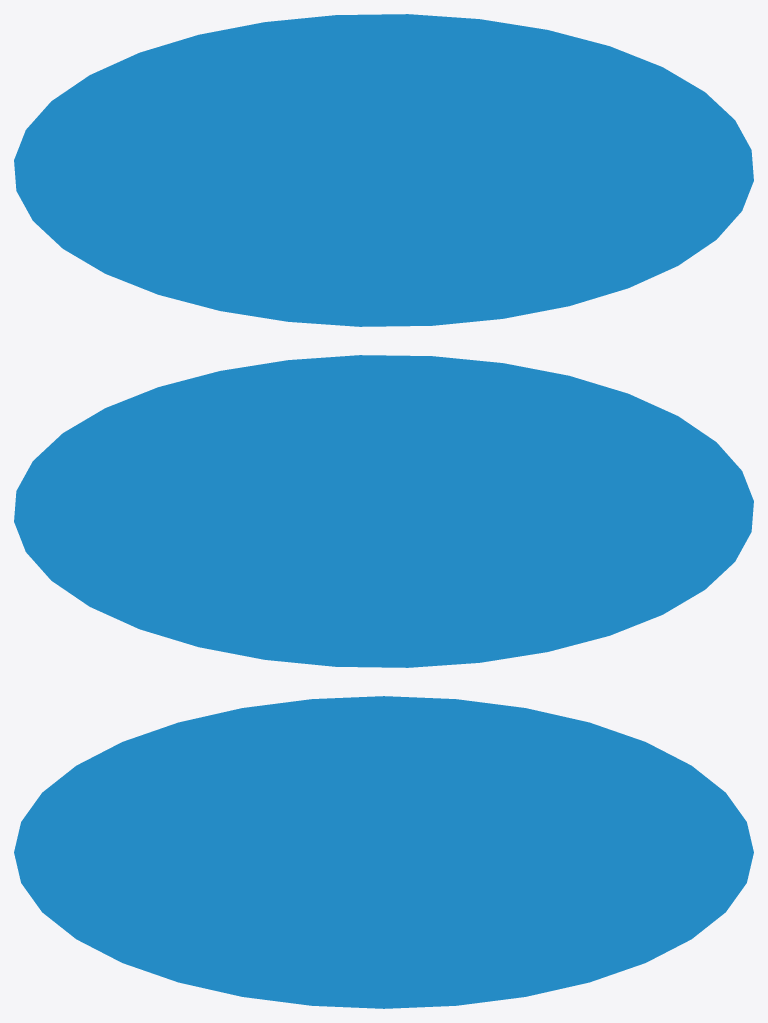
File: CircleWater.fbx
3 views of the same model, one above another, from view 1: azimuth 30°, elevation 25°; view 2: azimuth 150°, elevation 25°; view 3: azimuth 270°, elevation 25° (orthographic).
Visible parts, largest first — view 1: Circle; view 2: Circle; view 3: Circle.
Boxes of the visible parts, bbox=[...] form: Circle: bbox=[14, 14, 753, 326]; Circle: bbox=[14, 355, 753, 667]; Circle: bbox=[14, 696, 753, 1008].
Bounding box in the file's own units: 744 × 0.000121 × 744.
